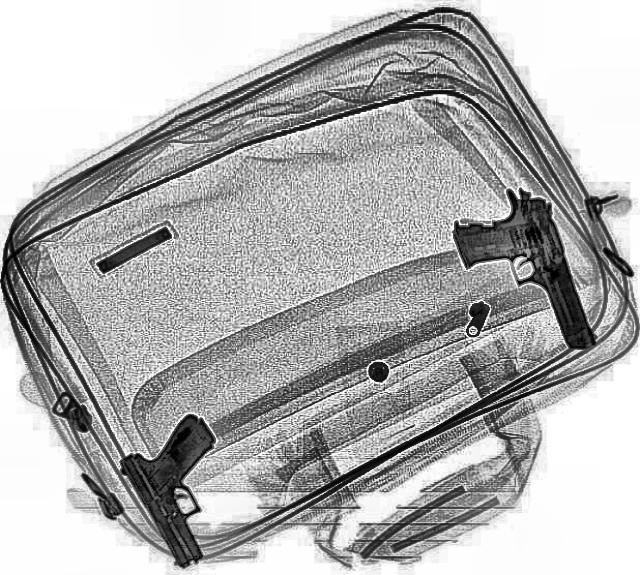Gun: (442, 181, 598, 369), (102, 408, 268, 572)
